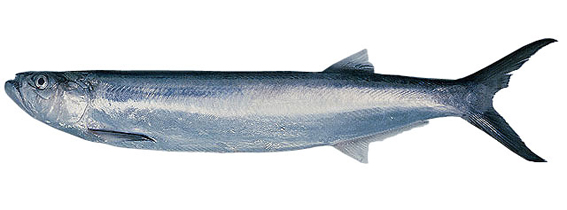fish: (6, 38, 558, 166)
